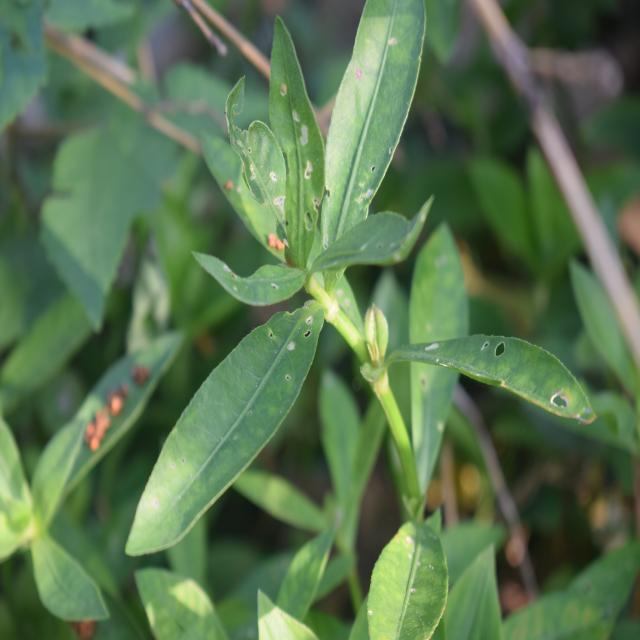Alligatorweed: (146, 25, 497, 584)
